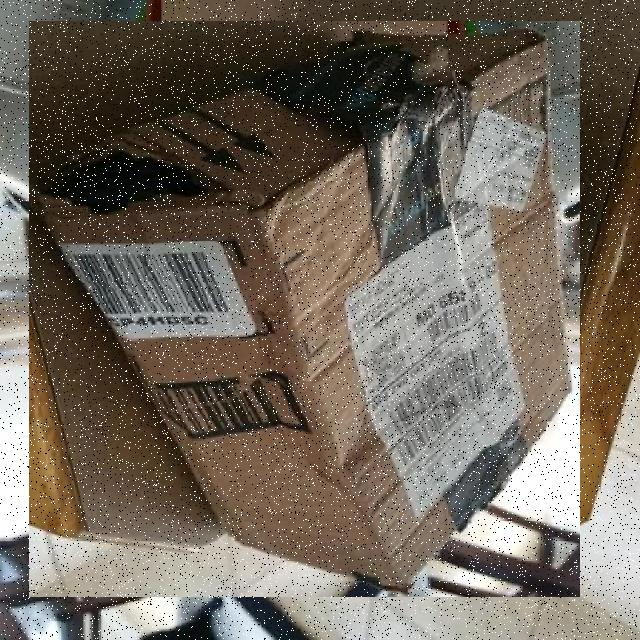defect: (29, 21, 580, 597)
